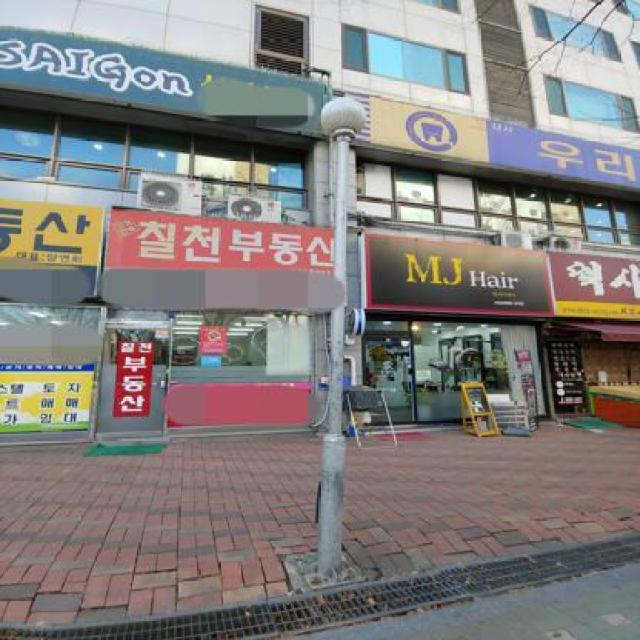pole: (296, 91, 384, 589)
